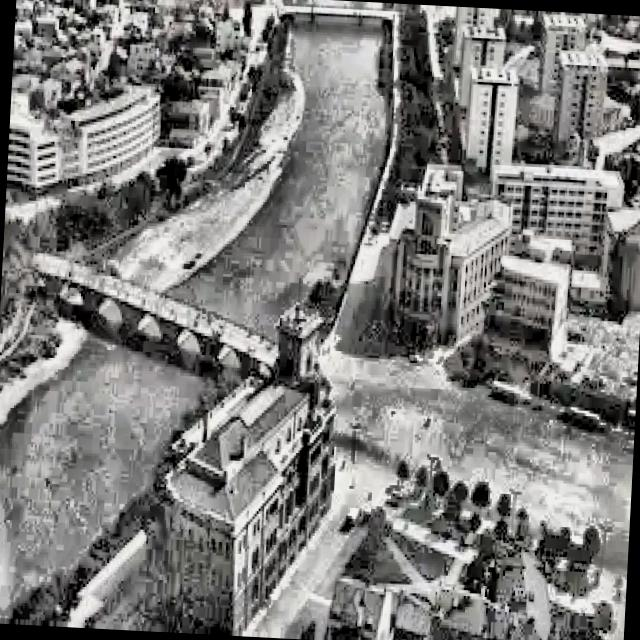stone bridge: (22, 244, 286, 396)
